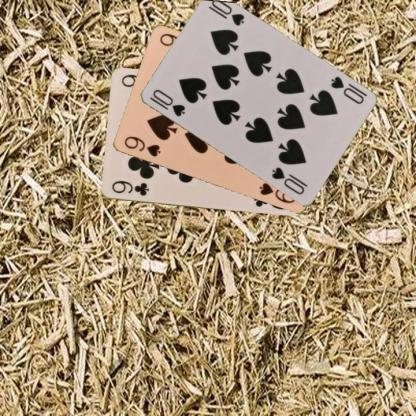10s: (146, 86, 186, 119), (328, 73, 365, 106)
9c: (108, 178, 150, 197)
9s: (121, 134, 162, 158)
